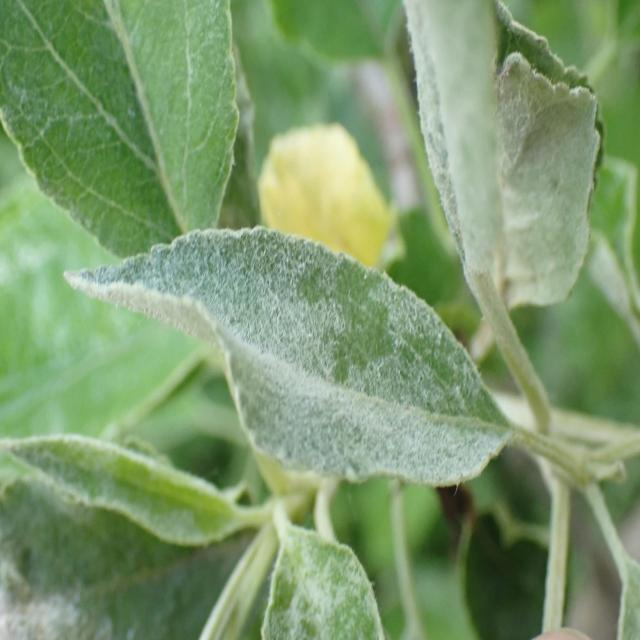Powdery_mildew: (71, 220, 512, 508), (390, 0, 612, 352), (0, 415, 255, 639), (2, 410, 250, 566), (240, 513, 400, 640)
